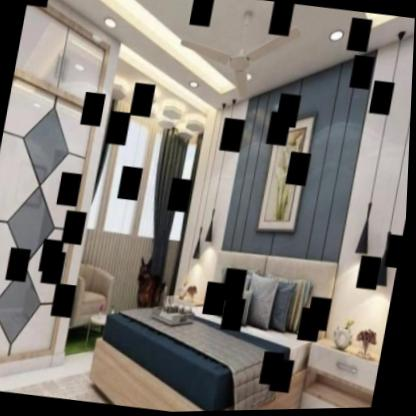Bed: (86, 228, 332, 414)
Nightstand: (296, 338, 385, 411)
